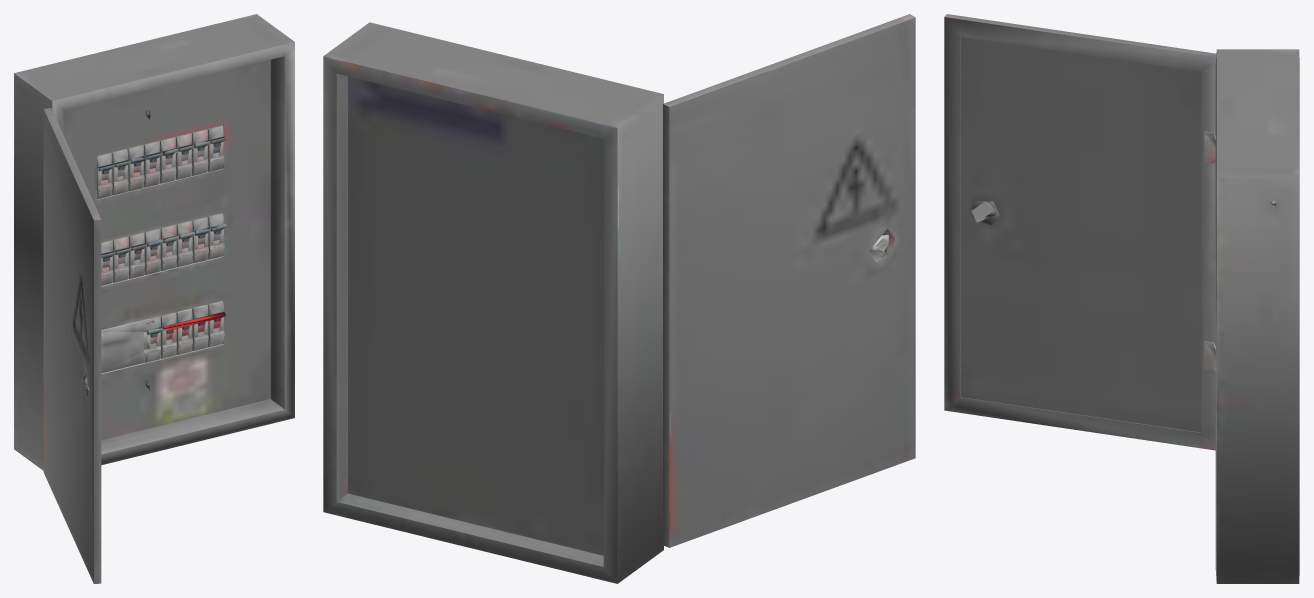
Rendered from power-box.gltf.
3 views of the same model, side by side, from view 1: azimuth 30°, elevation 25°; view 2: azimuth 150°, elevation 25°; view 3: azimuth 270°, elevation 25° (orthographic). The views are drawn at different scales.
Visible parts, largest first — view 1: power_box_01_box, power_box_01_door; view 2: power_box_01_box, power_box_01_door; view 3: power_box_01_door, power_box_01_box.
Part boxes in pixels (bbox=[...]): power_box_01_box: bbox=[14, 14, 294, 470]; power_box_01_door: bbox=[43, 108, 101, 583]; power_box_01_box: bbox=[323, 22, 663, 583]; power_box_01_door: bbox=[663, 14, 915, 547]; power_box_01_door: bbox=[944, 14, 1216, 450]; power_box_01_box: bbox=[1215, 49, 1299, 583].
Bounding box in the file's own units: 0.4608 × 0.5031 × 0.399.
Materials: 1 (1 with a texture image).
